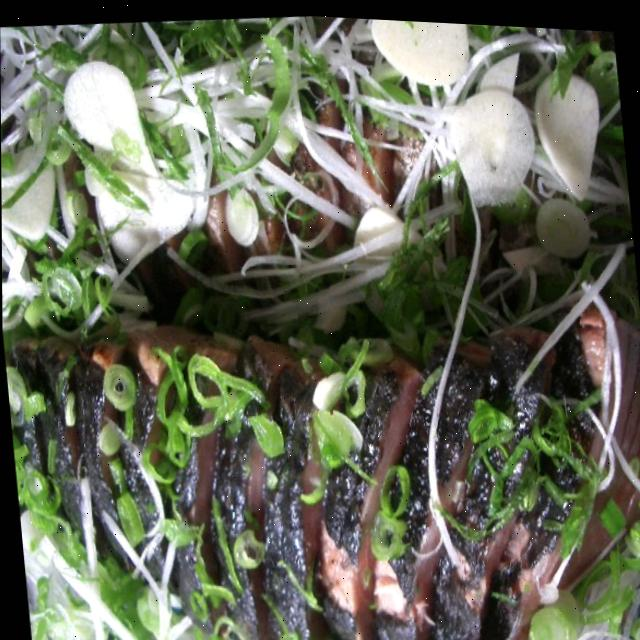熟制海鲜: (1, 138, 640, 640)
